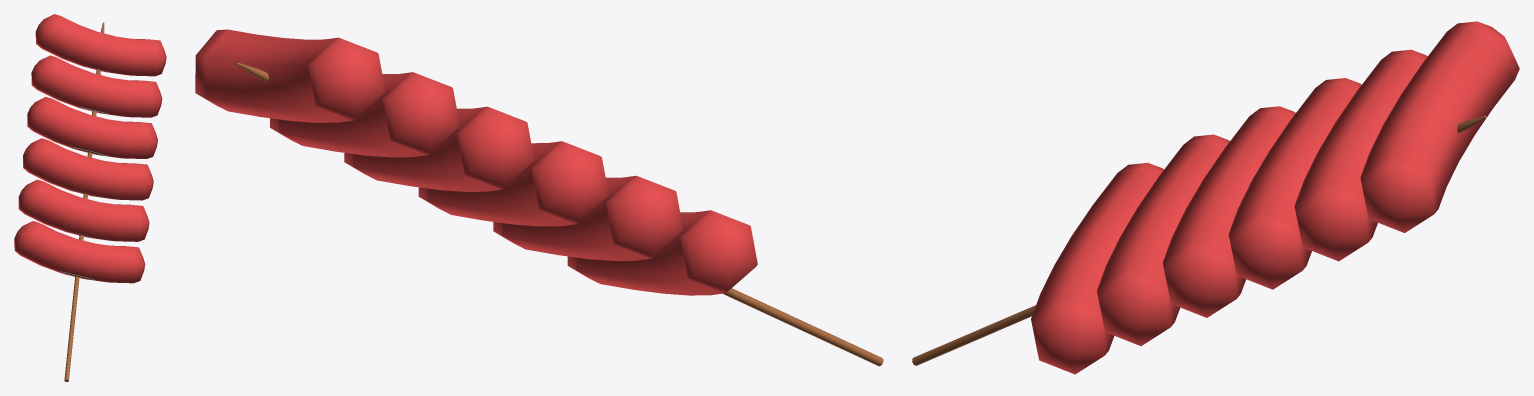
The model's file is sausge-fin.glb.
3 renders of one model, left to right at view 1: azimuth 30°, elevation 25°; view 2: azimuth 150°, elevation 25°; view 3: azimuth 270°, elevation 25°, orthographic. The views are drawn at different scales.
Visible parts, largest first — view 1: Cylinder003; view 2: Cylinder003; view 3: Cylinder003.
Boxes of the visible parts, left/top/right/bottom form: Cylinder003: left=14, top=14, right=166, bottom=381; Cylinder003: left=195, top=29, right=883, bottom=366; Cylinder003: left=912, top=21, right=1519, bottom=374.
Bounding box in the file's own units: 0.2158 × 0.22 × 0.2586.
1 material, 1 textured.
